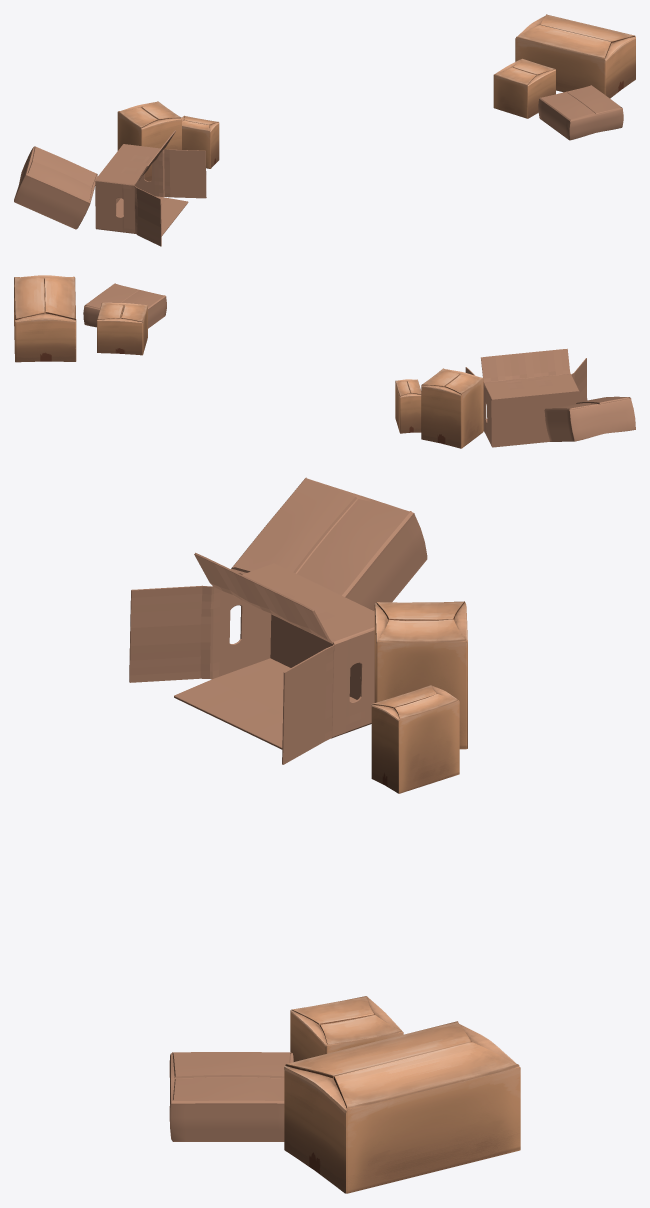
File: MDL_Entrance_Boxes_01.fbx
3 views of the same model, one above another, from view 1: azimuth 30°, elevation 25°; view 2: azimuth 150°, elevation 25°; view 3: azimuth 270°, elevation 25° (orthographic). The views are drawn at different scales.
Parts seen in each view (by area): view 1: MDL_Mainbox_open.001, MDL_Box_04.002, MDL_Box_01.002, MDL_Box_01.001, MDL_Box_03.002, MDL_Box_03.004, MDL_Box_03.005; view 2: MDL_Mainbox_open.001, MDL_Box_04.002, MDL_Box_03.004, MDL_Box_01.002, MDL_Box_03.002, MDL_Box_01.001, MDL_Box_03.005; view 3: MDL_Mainbox_open.001, MDL_Box_04.002, MDL_Box_01.002, MDL_Box_01.001, MDL_Box_03.004, MDL_Box_03.005, MDL_Box_03.002.
Part boxes in pixels (x1=…): MDL_Mainbox_open.001: x1=95, y1=130, x2=206, y2=246; MDL_Box_04.002: x1=515, y1=14, x2=635, y2=98; MDL_Box_01.002: x1=14, y1=146, x2=97, y2=229; MDL_Box_01.001: x1=538, y1=85, x2=623, y2=140; MDL_Box_03.002: x1=493, y1=58, x2=555, y2=118; MDL_Box_03.004: x1=117, y1=101, x2=181, y2=181; MDL_Box_03.005: x1=181, y1=115, x2=219, y2=168; MDL_Mainbox_open.001: x1=465, y1=348, x2=587, y2=447; MDL_Box_04.002: x1=14, y1=275, x2=76, y2=362; MDL_Box_03.004: x1=421, y1=368, x2=483, y2=448; MDL_Box_01.002: x1=544, y1=396, x2=635, y2=441; MDL_Box_03.002: x1=97, y1=302, x2=147, y2=355; MDL_Box_01.001: x1=83, y1=283, x2=166, y2=328; MDL_Box_03.005: x1=395, y1=379, x2=421, y2=433; MDL_Mainbox_open.001: x1=129, y1=552, x2=374, y2=764; MDL_Box_04.002: x1=284, y1=1021, x2=520, y2=1193; MDL_Box_01.002: x1=231, y1=477, x2=427, y2=611; MDL_Box_01.001: x1=169, y1=1052, x2=293, y2=1141; MDL_Box_03.004: x1=374, y1=601, x2=467, y2=749; MDL_Box_03.005: x1=371, y1=685, x2=459, y2=793; MDL_Box_03.002: x1=290, y1=996, x2=403, y2=1061.
Size of the model in its own units: 569 by 62.4 by 157.
